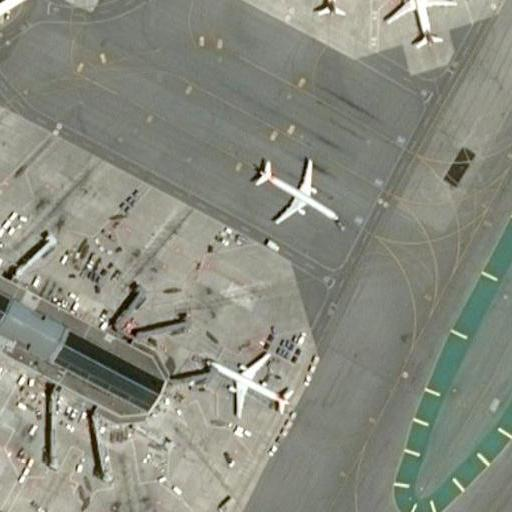Aircraft: (242, 153, 336, 233), (200, 344, 291, 424), (382, 0, 459, 46)
